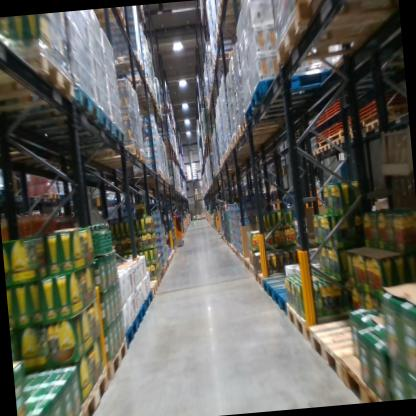pallet: (268, 0, 384, 61), (0, 43, 78, 125), (307, 309, 385, 388), (9, 88, 101, 140), (287, 287, 349, 345), (247, 70, 329, 112), (339, 350, 403, 401), (45, 110, 115, 153), (290, 0, 398, 25), (60, 121, 127, 156), (243, 96, 315, 125), (273, 283, 323, 321), (239, 112, 302, 141), (98, 331, 131, 383), (80, 364, 110, 416), (262, 270, 307, 303), (84, 143, 141, 168), (362, 108, 406, 138), (104, 52, 145, 82), (90, 8, 131, 37), (106, 149, 152, 173), (255, 264, 293, 291), (234, 124, 277, 145), (213, 23, 243, 48), (125, 317, 141, 353), (242, 253, 268, 274), (30, 187, 61, 204), (132, 299, 148, 331), (211, 48, 236, 65), (146, 279, 159, 299), (248, 259, 257, 283), (342, 129, 360, 141), (331, 135, 344, 150), (146, 290, 154, 311), (317, 143, 327, 157), (309, 148, 319, 161), (155, 274, 163, 288), (69, 409, 84, 416), (160, 264, 168, 276), (158, 268, 165, 280), (325, 139, 332, 151)
pallet_truck: (164, 188, 189, 251)
